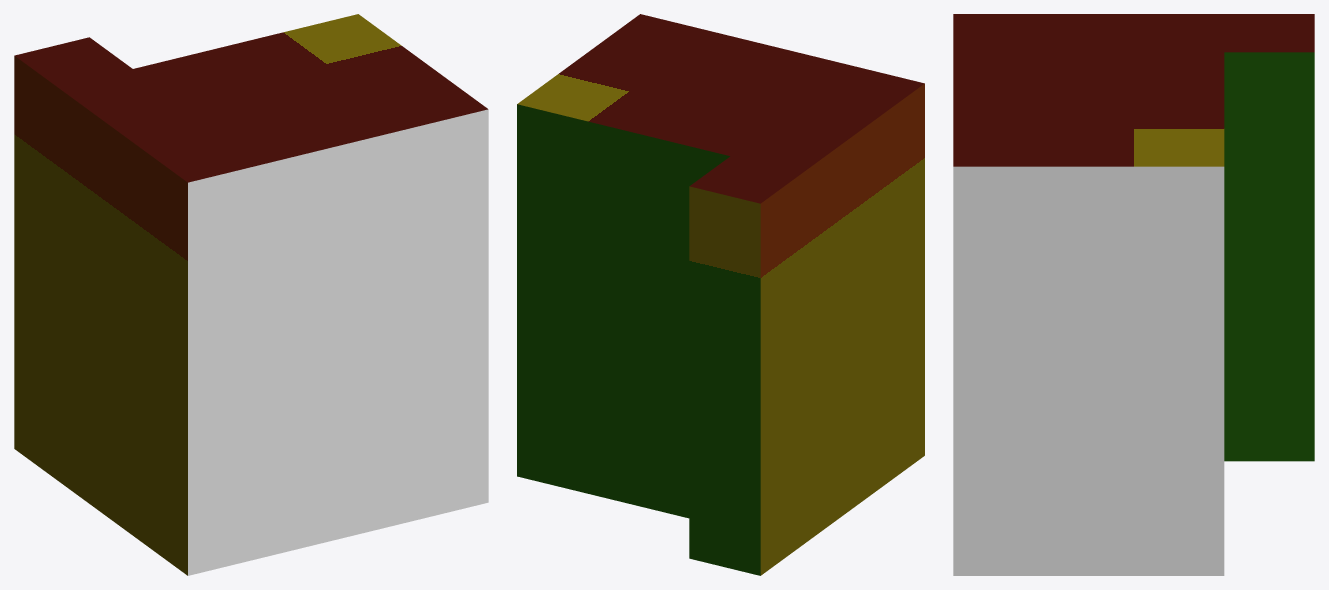
File: block_28.fbx
3 views of the same model, side by side, from view 1: azimuth 30°, elevation 25°; view 2: azimuth 150°, elevation 25°; view 3: azimuth 270°, elevation 25° (orthographic). The views are drawn at different scales.
Parts seen in each view (by area): view 1: box; view 2: box; view 3: box.
Boxes of the visible parts, <box> form: box: <box>14,14,488,575</box>; box: <box>517,14,924,575</box>; box: <box>953,14,1314,575</box>.
Size of the model in its own units: 4 by 4 by 5.
1 material, 1 textured.
